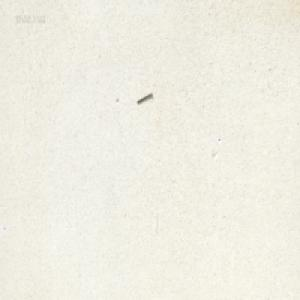Bolt: (135, 90, 152, 103)
